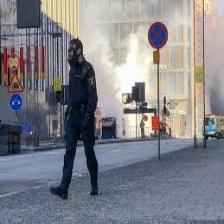smoke: (96, 36, 134, 100)
